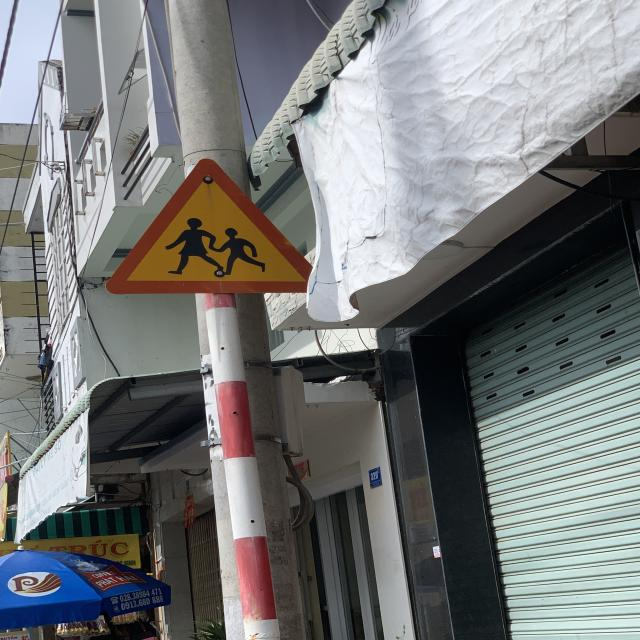Vong_Xuyen: (103, 157, 304, 294)
